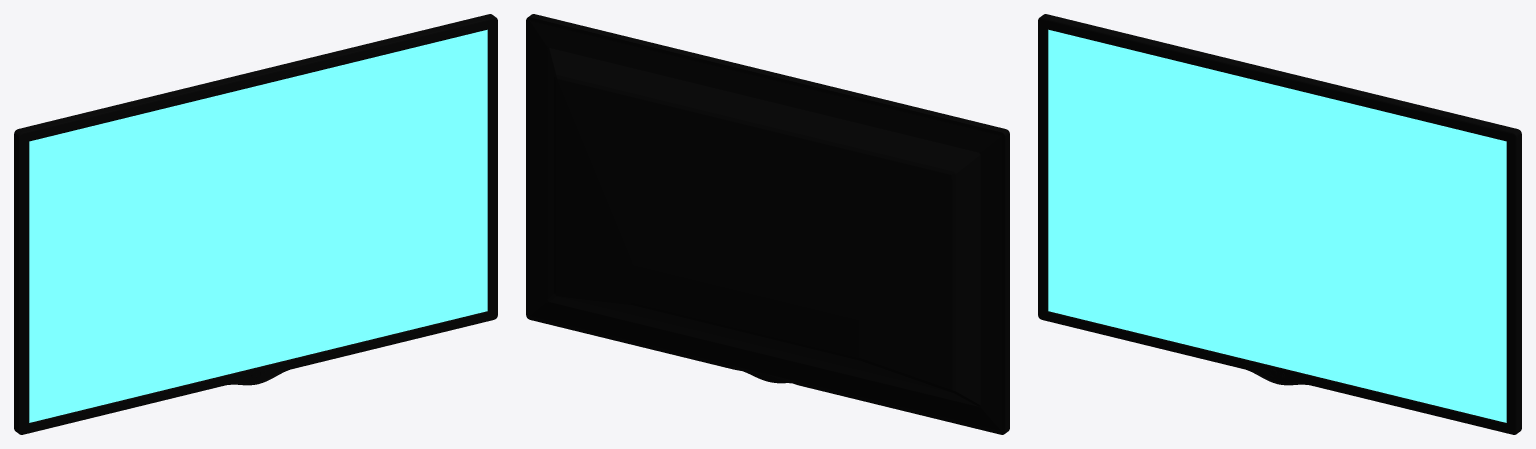
3 renders of one model, left to right at view 1: azimuth 30°, elevation 25°; view 2: azimuth 150°, elevation 25°; view 3: azimuth 330°, elevation 25°, orthographic.
Visible parts, largest first — view 1: Tv, tv lg001; view 2: tv lg001; view 3: Tv, tv lg001.
Part boxes in pixels (x1,y1,x2,y2): Tv: (20,19,496,433); tv lg001: (14,14,497,434); tv lg001: (526,14,1009,434); Tv: (1039,19,1515,433); tv lg001: (1038,14,1521,434).
Bounding box in the file's own units: 1.72 × 1.06 × 0.1547.
